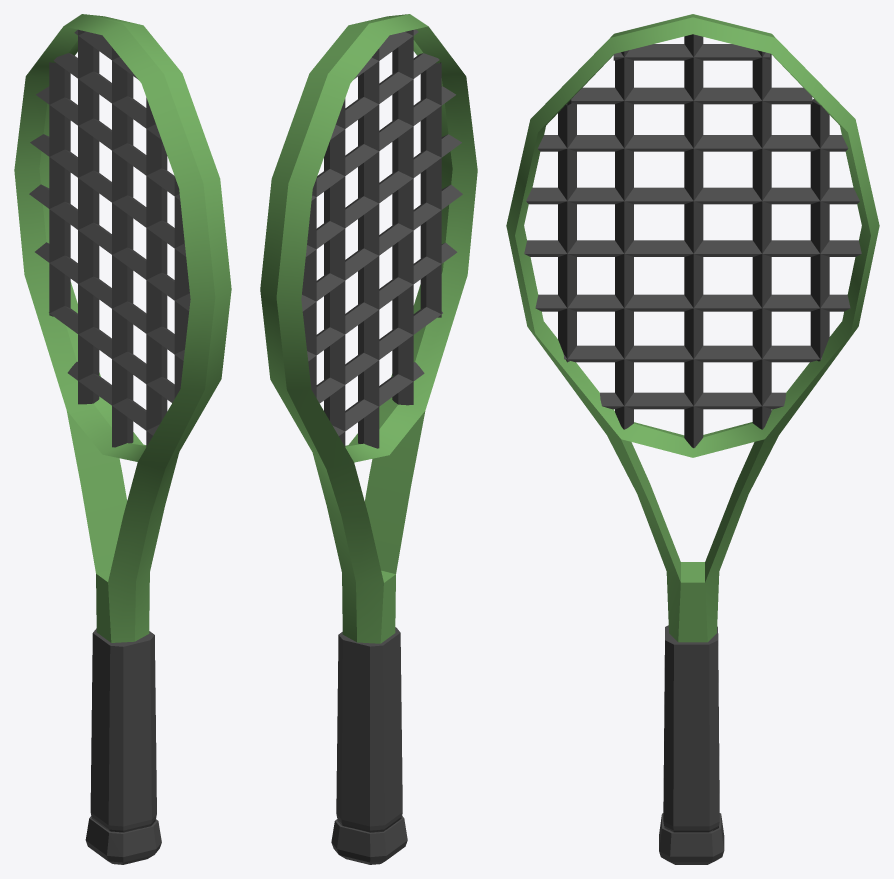
The model's file is Raquette_Tennis.fbx.
The picture shows the model from 3 angles, left to right: view 1: azimuth 30°, elevation 25°; view 2: azimuth 150°, elevation 25°; view 3: azimuth 270°, elevation 25°; orthographic projection.
Parts seen in each view (by area): view 1: Raquette; view 2: Raquette; view 3: Raquette.
Part boxes in pixels (x1=…): Raquette: x1=14, y1=14, x2=231, y2=864; Raquette: x1=260, y1=14, x2=477, y2=864; Raquette: x1=506, y1=14, x2=879, y2=864.
Size of the model in its own units: 6.79 by 97.67 by 39.43.
1 material, 1 textured.
